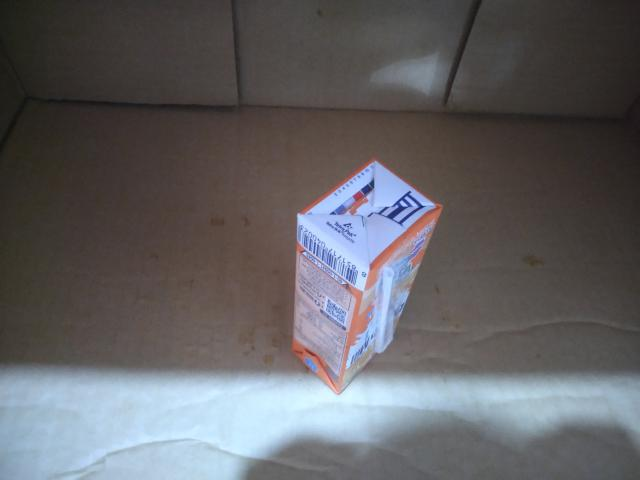drink_box: (271, 142, 468, 420)
